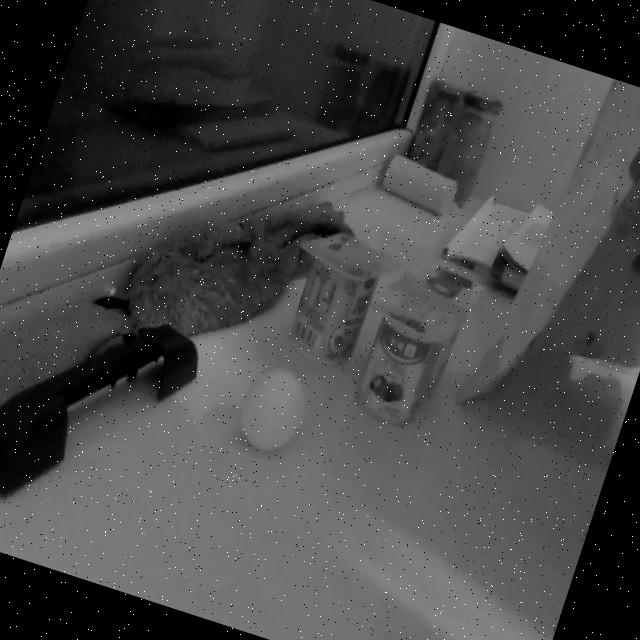ping-pong-ball: (232, 362, 311, 458)
